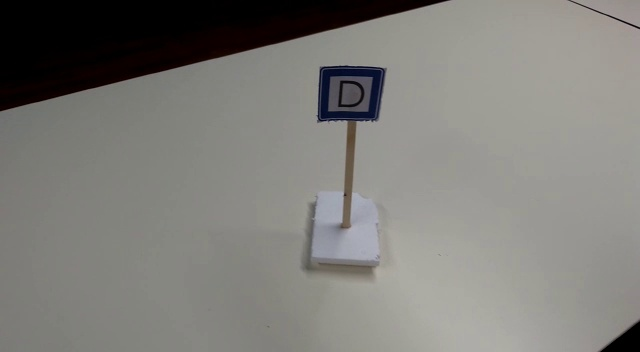durak: (317, 66, 384, 121)
